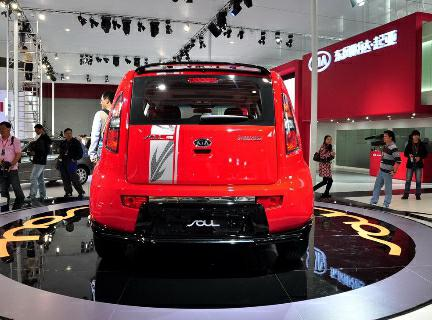起亚-秀尔: (86, 60, 319, 271)
